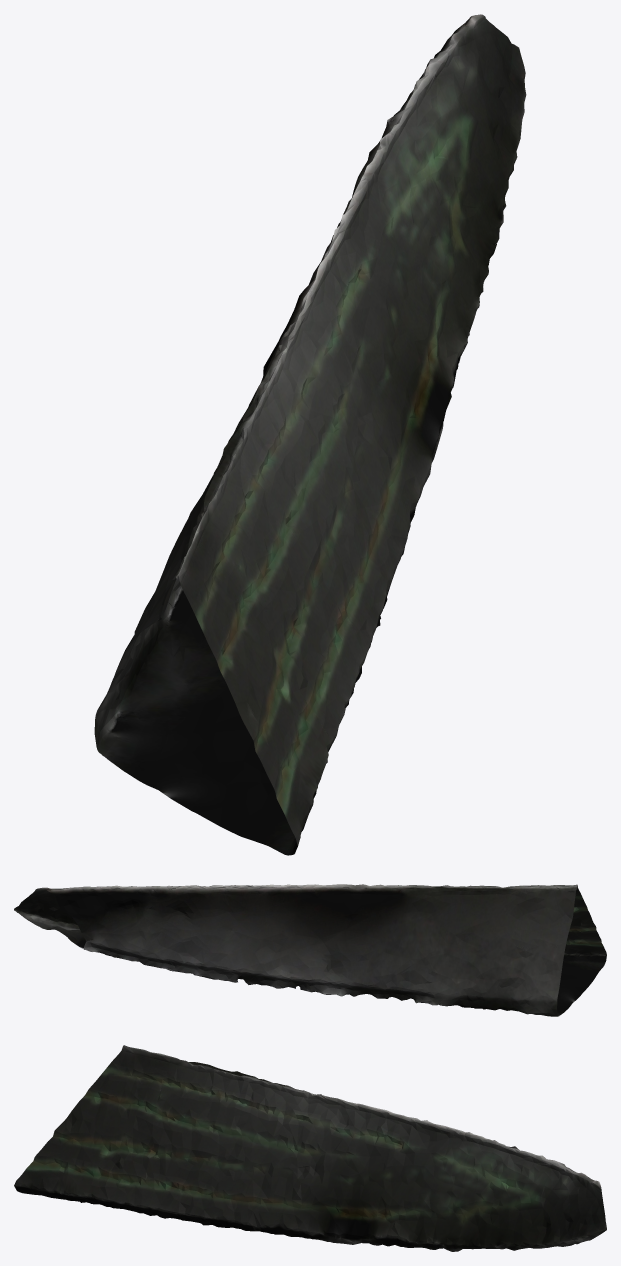
Rendered from tile_0_1.obj.
3 views of the same model, one above another, from view 1: azimuth 30°, elevation 25°; view 2: azimuth 150°, elevation 25°; view 3: azimuth 270°, elevation 25° (orthographic). The views are drawn at different scales.
Visible parts, largest first — view 1: texture_0; view 2: texture_0; view 3: texture_0.
Part boxes in pixels (left/top/right/bottom): texture_0: left=94, top=14, right=526, bottom=855; texture_0: left=14, top=884, right=606, bottom=1016; texture_0: left=14, top=1045, right=606, bottom=1251.
Size of the model in its own units: 0.1219 by 0.0527 by 0.1348.
1 material, 1 textured.
